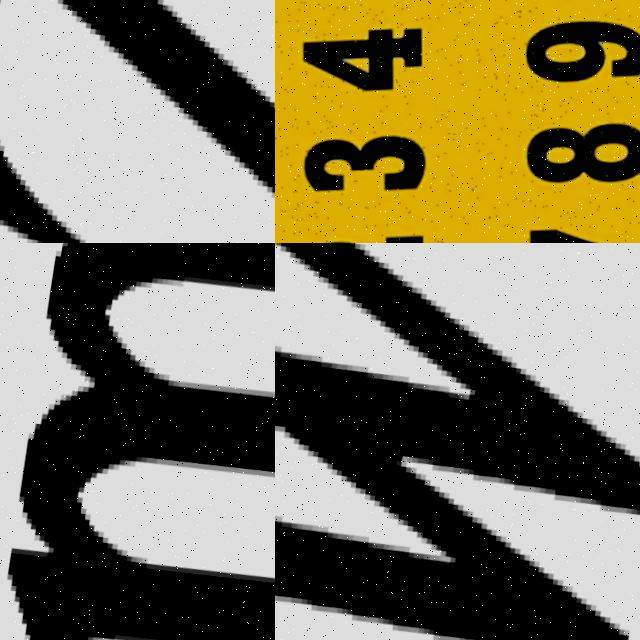2: (289, 213, 446, 243)
3: (291, 112, 438, 219)
4: (275, 0, 446, 131)
7: (496, 198, 640, 243)
8: (503, 104, 640, 220)
9: (501, 0, 640, 120)
M: (0, 243, 275, 640)
W: (275, 243, 640, 640)
Z: (0, 0, 275, 243)
